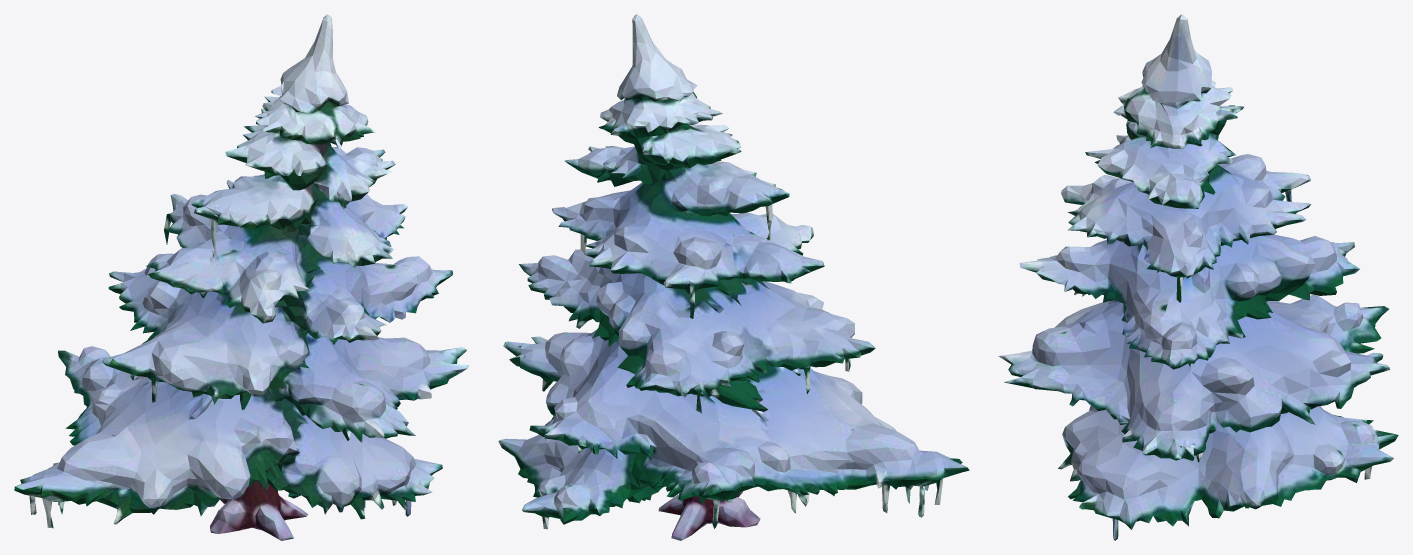
The model's file is snow_pine.glb.
3 renders of one model, left to right at view 1: azimuth 30°, elevation 25°; view 2: azimuth 150°, elevation 25°; view 3: azimuth 270°, elevation 25°, orthographic. The views are drawn at different scales.
Parts seen in each view (by area): view 1: tmpns_g9emx.ply; view 2: tmpns_g9emx.ply; view 3: tmpns_g9emx.ply.
Part boxes in pixels (box(x1,y1,x2,y2)): tmpns_g9emx.ply: box(14, 14, 469, 540); tmpns_g9emx.ply: box(498, 14, 969, 540); tmpns_g9emx.ply: box(998, 14, 1398, 540).
Size of the model in its own units: 1.95 by 2 by 1.44.
1 material, 1 textured.
